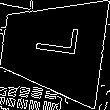L_W: (26, 29, 80, 67)
